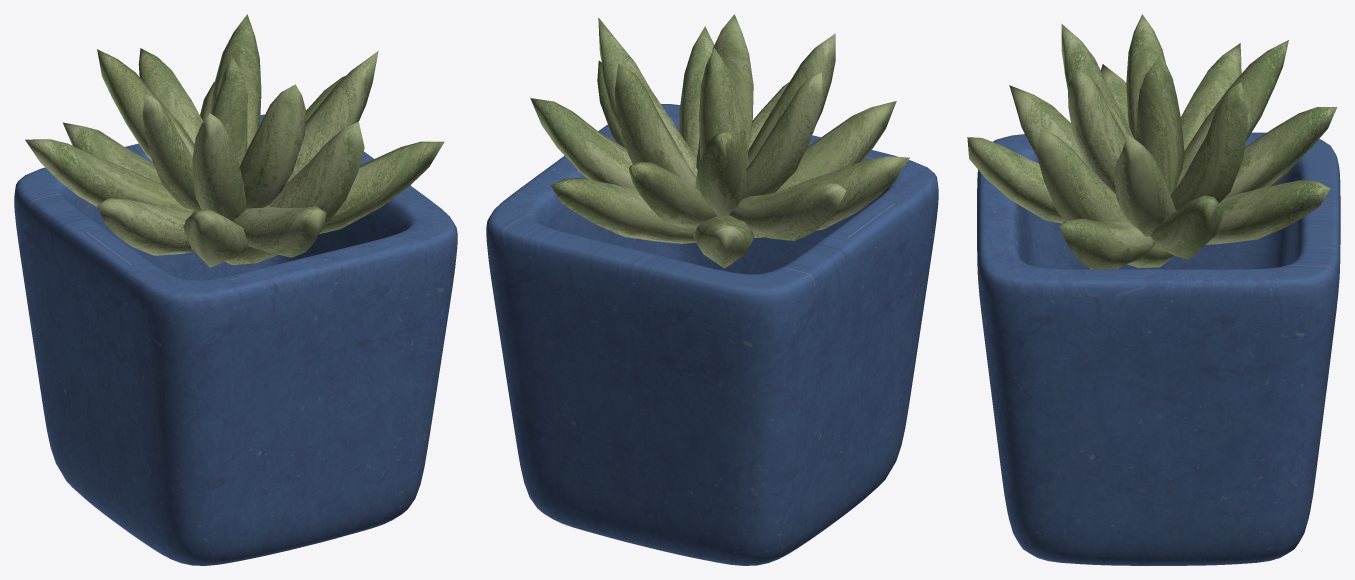
File: ECHEVERIA_AMOENA_BLUE_CERAMIC_POT.glb
3 renders of one model, left to right at view 1: azimuth 30°, elevation 25°; view 2: azimuth 150°, elevation 25°; view 3: azimuth 270°, elevation 25°, orthographic. The views are drawn at different scales.
Visible parts, largest first — view 1: pot01, GA_cactus; view 2: pot01, GA_cactus; view 3: pot01, GA_cactus.
Boxes of the visible parts, left/top/right/bottom form: pot01: left=14, top=114, right=457, bottom=565; GA_cactus: left=25, top=14, right=444, bottom=267; pot01: left=486, top=104, right=938, bottom=565; GA_cactus: left=530, top=14, right=909, bottom=268; pot01: left=977, top=132, right=1340, bottom=565; GA_cactus: left=967, top=14, right=1337, bottom=269.
Size of the model in its own units: 0.9795 by 1.26 by 0.934.
Materials: 2 (2 with a texture image).
